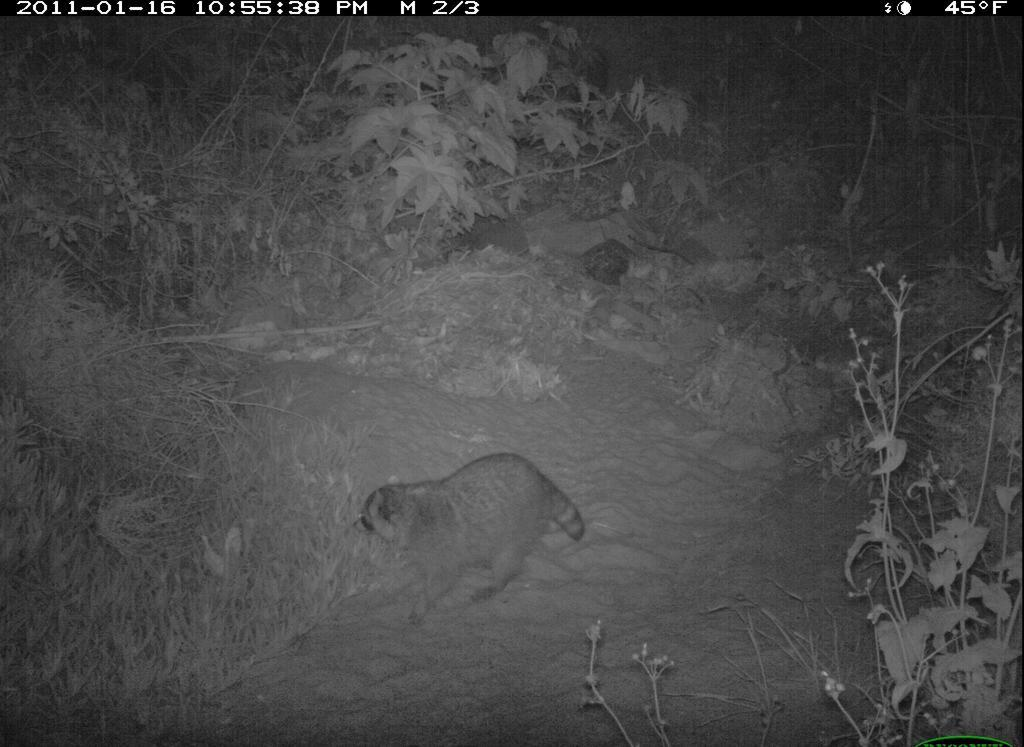raccoon: (345, 438, 609, 601)
